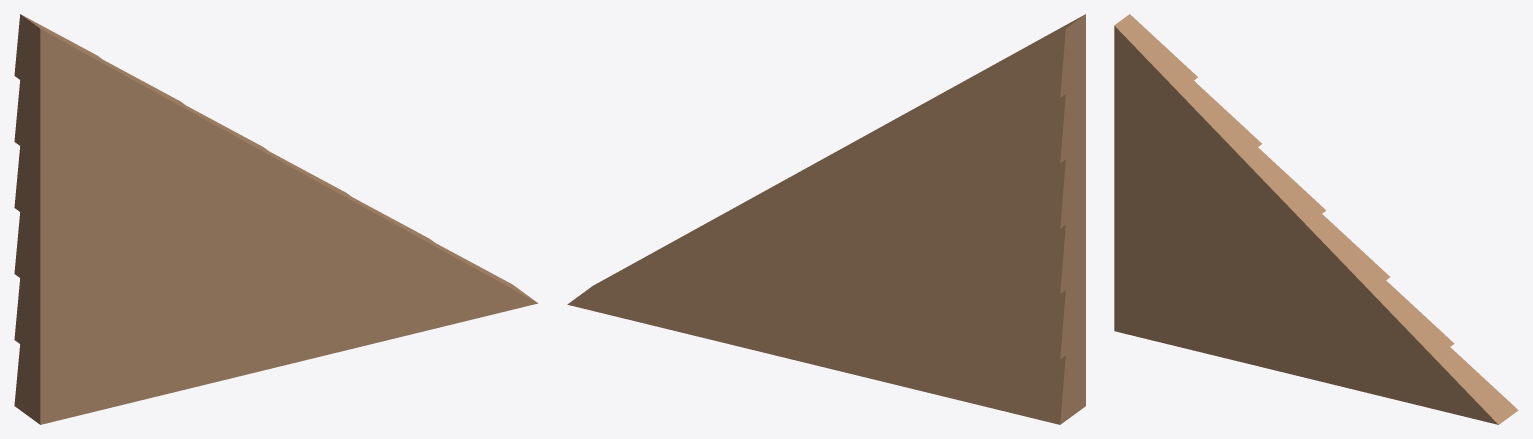
File: cabinSide.glb
The picture shows the model from 3 angles, left to right: view 1: azimuth 30°, elevation 25°; view 2: azimuth 150°, elevation 25°; view 3: azimuth 330°, elevation 25°; orthographic projection. The views are drawn at different scales.
Parts seen in each view (by area): view 1: cabinSide; view 2: cabinSide; view 3: cabinSide.
Boxes of the visible parts, left/top/right/bottom form: cabinSide: left=14, top=14, right=538, bottom=424; cabinSide: left=567, top=14, right=1085, bottom=424; cabinSide: left=1114, top=14, right=1518, bottom=424.
Bounding box in the file's own units: 1 × 0.76 × 0.0902.
